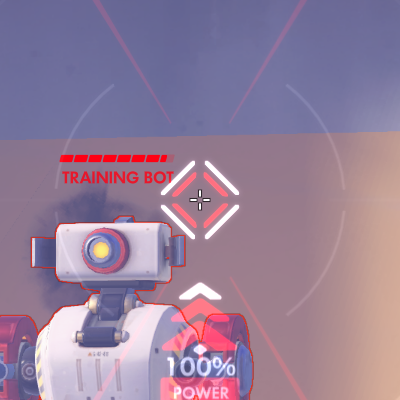hpbar: (59, 154, 175, 163)
